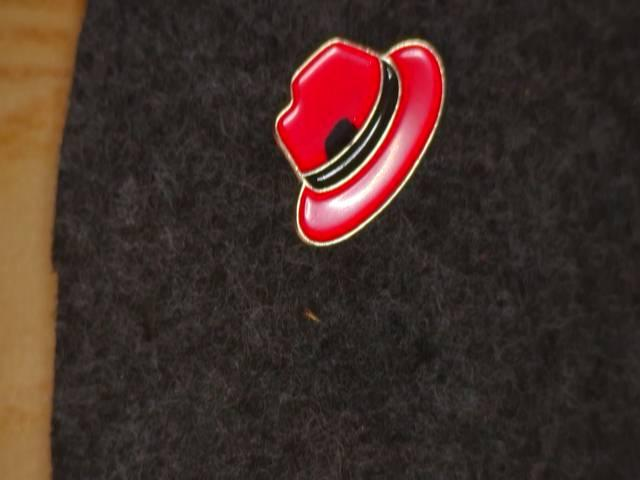Red-Hat: (261, 23, 463, 284)
Scratch: (321, 99, 361, 170)
